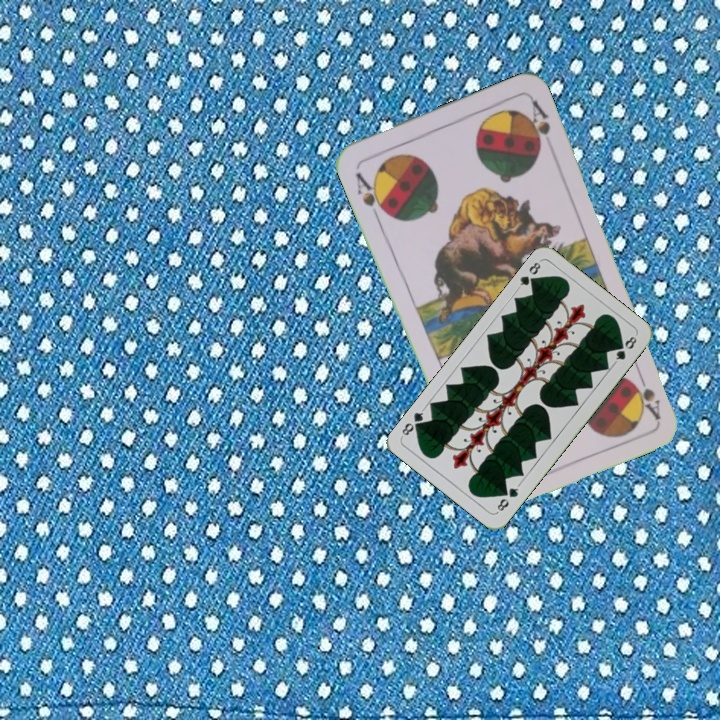G8: (491, 481, 522, 515), (513, 257, 543, 291)
SA: (352, 168, 390, 222), (629, 365, 664, 422)
